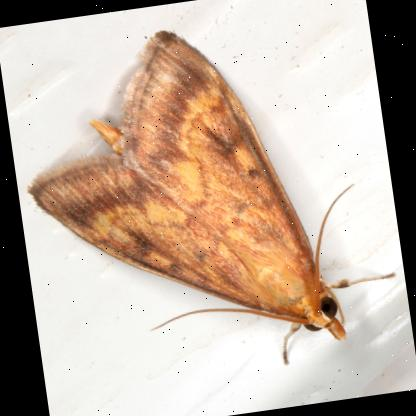Asian Corn Borer Moth: (4, 0, 408, 399)
